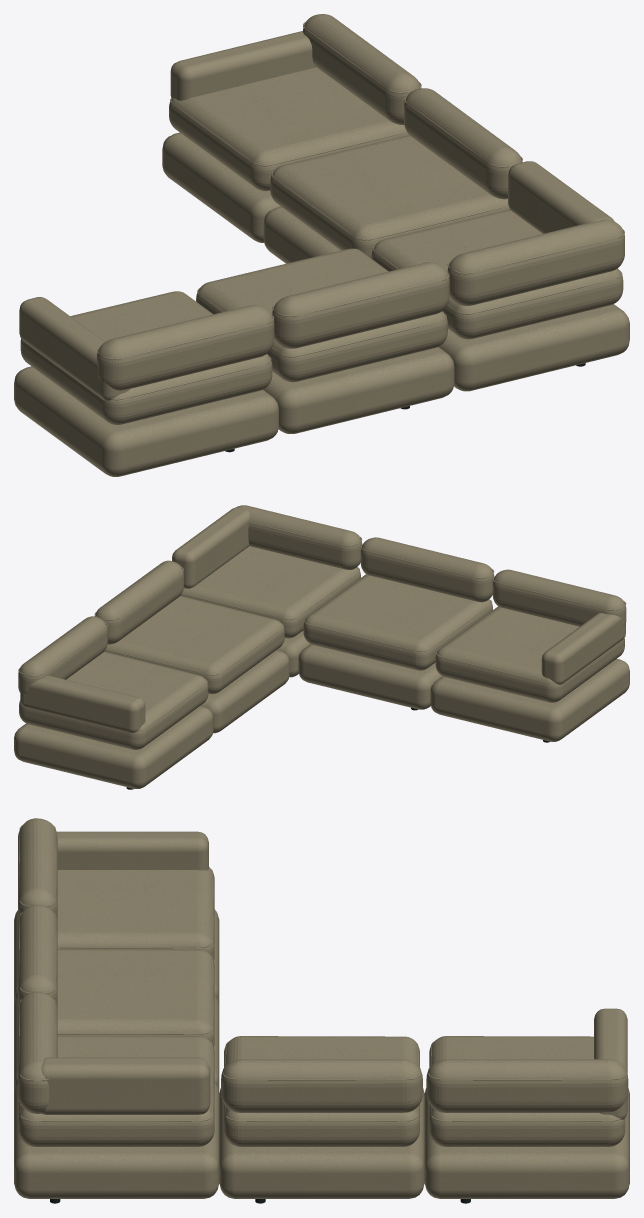
The model's file is luxury-low-corner.glb.
The picture shows the model from 3 angles, top to bottom: view 1: azimuth 30°, elevation 25°; view 2: azimuth 150°, elevation 25°; view 3: azimuth 270°, elevation 25°; orthographic projection. The views are drawn at different scales.
Parts seen in each view (by area): view 1: linen_0; view 2: linen_0; view 3: linen_0.
Boxes of the visible parts, bbox=[...] form: linen_0: bbox=[14, 14, 629, 476]; linen_0: bbox=[14, 505, 629, 788]; linen_0: bbox=[14, 818, 629, 1198].
Bounding box in the file's own units: 3.1 × 0.8209 × 3.1.
2 materials, 1 textured.
